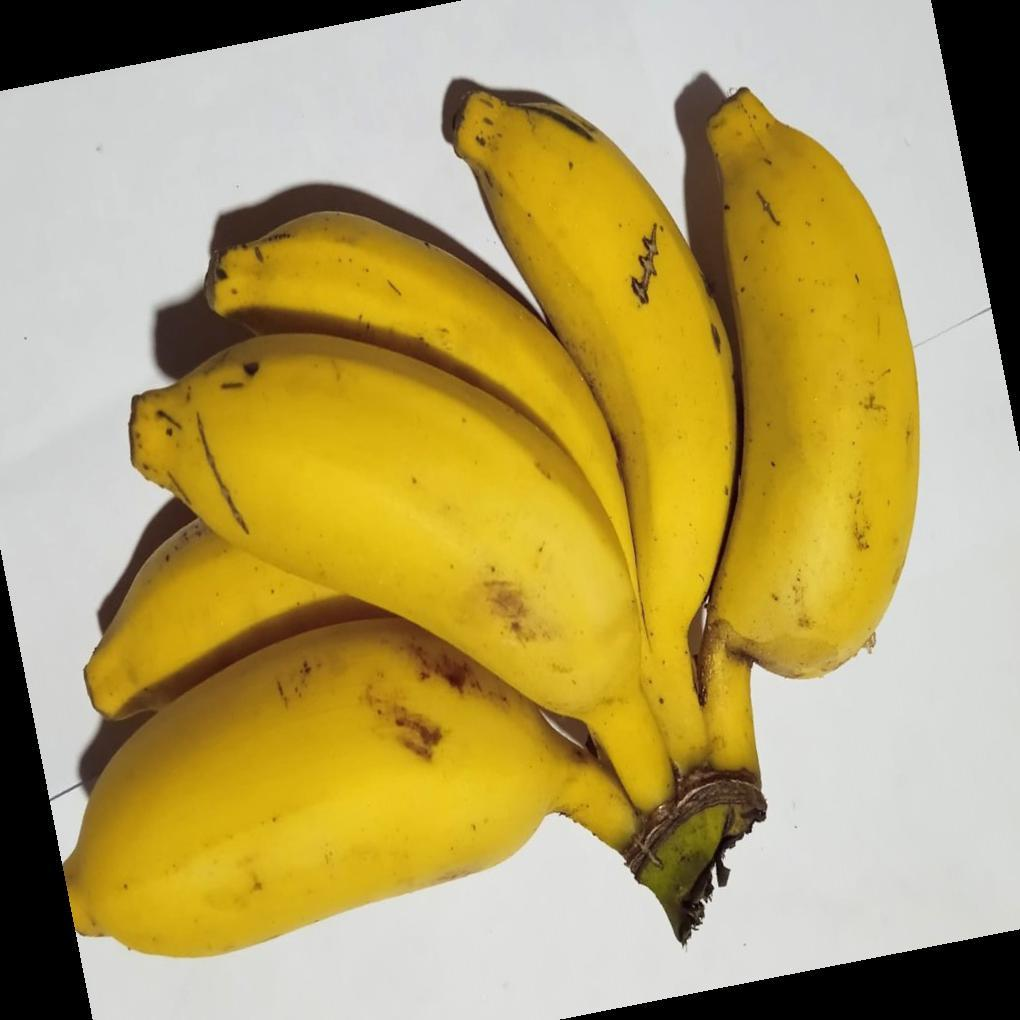Banana Ripe: (76, 81, 940, 1020), (128, 197, 703, 880), (73, 414, 685, 1020), (426, 19, 789, 857), (676, 47, 946, 871)
